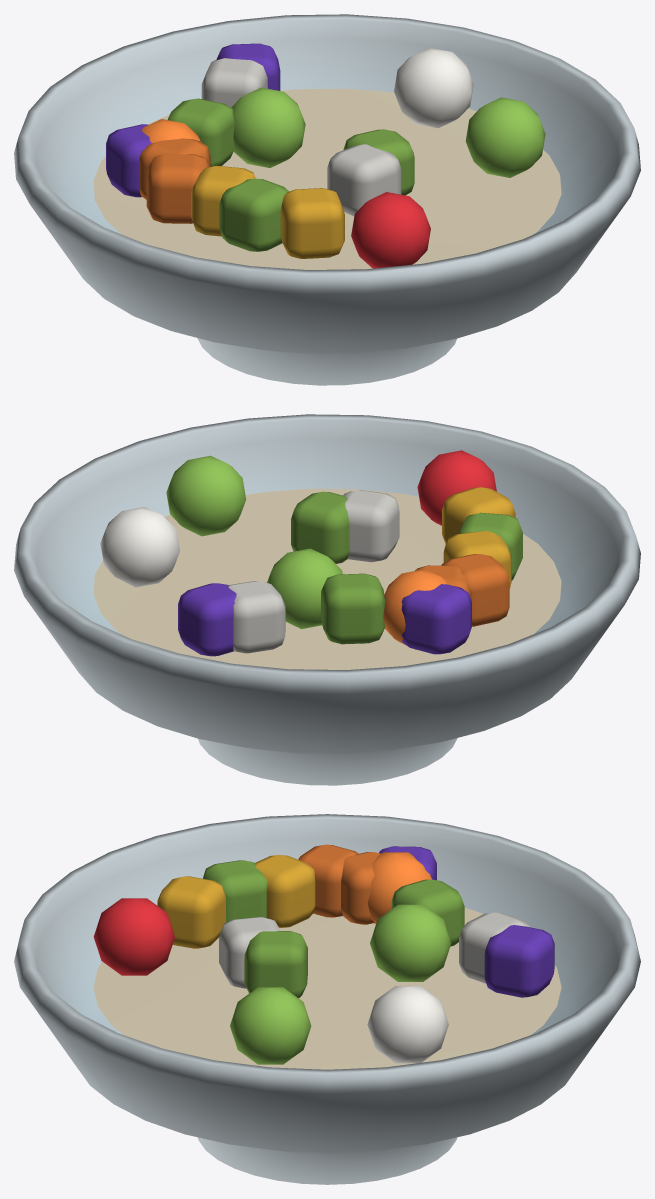
Rendered from item_dish_fruit_salad.glb.
3 views of the same model, one above another, from view 1: azimuth 30°, elevation 25°; view 2: azimuth 150°, elevation 25°; view 3: azimuth 270°, elevation 25° (orthographic).
Visible parts, largest first — view 1: item_dish_fruit_salad_main, item_dish_fruit_salad_gloss; view 2: item_dish_fruit_salad_main, item_dish_fruit_salad_gloss; view 3: item_dish_fruit_salad_main, item_dish_fruit_salad_gloss.
Part boxes in pixels (box(x1,y1,x2,y2)): item_dish_fruit_salad_main: box(14, 14, 640, 385); item_dish_fruit_salad_gloss: box(142, 47, 545, 268); item_dish_fruit_salad_main: box(14, 414, 640, 785); item_dish_fruit_salad_gloss: box(100, 450, 496, 649); item_dish_fruit_salad_main: box(14, 814, 640, 1184); item_dish_fruit_salad_gloss: box(93, 852, 451, 1064).
Size of the model in its own units: 0.2 by 0.075 by 0.2.
